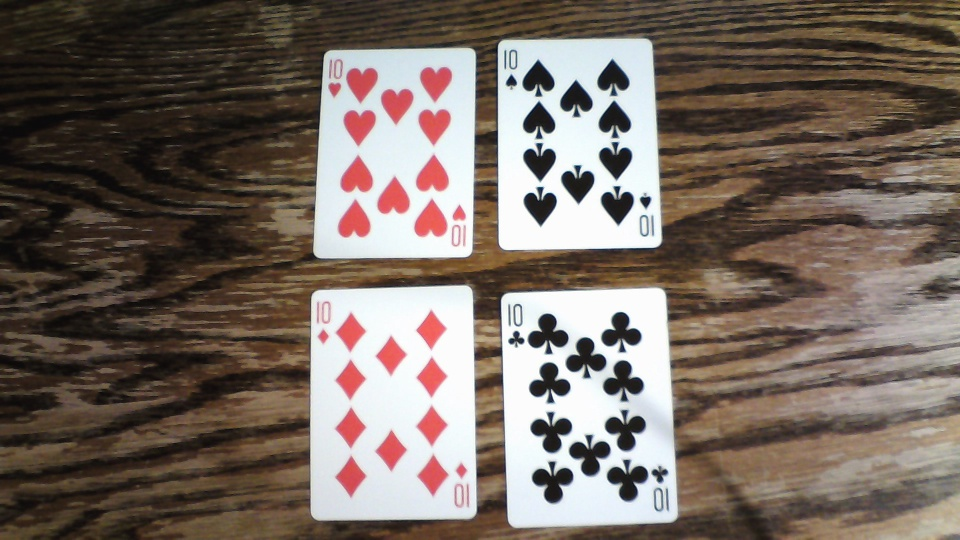ten: (499, 286, 680, 528), (308, 285, 478, 518), (495, 37, 663, 249), (309, 46, 476, 257)
